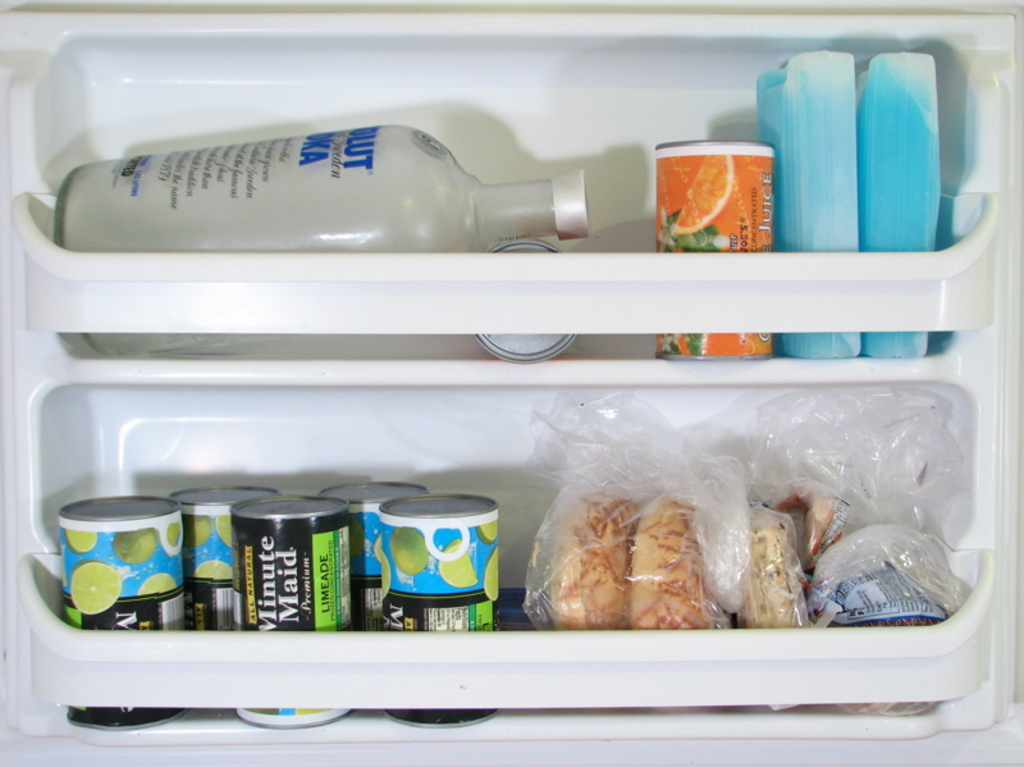refrigerator door: (0, 0, 1024, 755)
